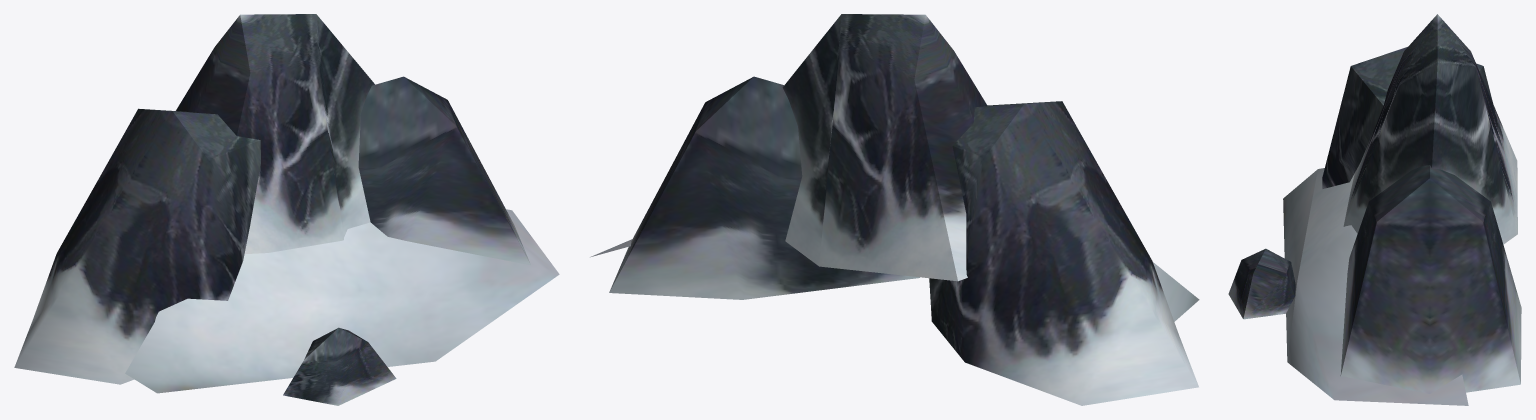
File: yw_anxizhidi_luanshi03.FBX
3 views of the same model, side by side, from view 1: azimuth 30°, elevation 25°; view 2: azimuth 150°, elevation 25°; view 3: azimuth 270°, elevation 25° (orthographic). The views are drawn at different scales.
Visible parts, largest first — view 1: yw_anxizhidi_luanshi03; view 2: yw_anxizhidi_luanshi03; view 3: yw_anxizhidi_luanshi03.
Part boxes in pixels (<box>): yw_anxizhidi_luanshi03: <box>14,14,559,405</box>; yw_anxizhidi_luanshi03: <box>590,14,1199,405</box>; yw_anxizhidi_luanshi03: <box>1228,14,1521,405</box>.
Size of the model in its own units: 524 by 302 by 271.
